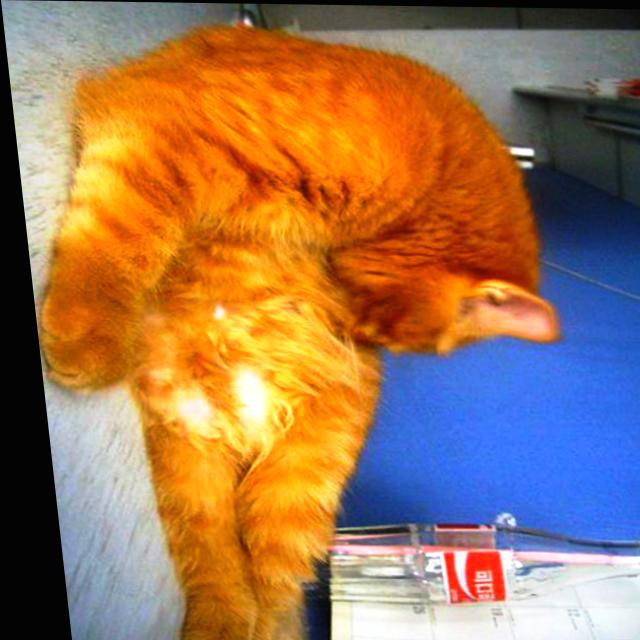hairloss: (232, 375, 275, 420), (177, 388, 209, 427)
